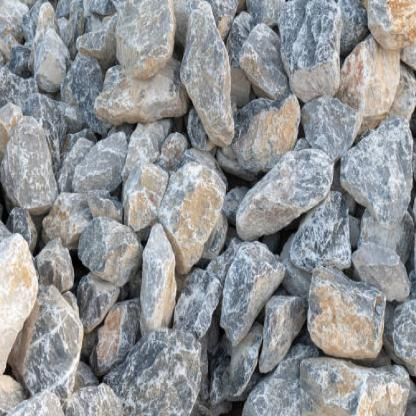Sedimentary_Limestone: (227, 142, 346, 242), (177, 0, 238, 156), (309, 266, 388, 364), (338, 116, 409, 224), (274, 0, 346, 101), (0, 230, 44, 378), (111, 0, 182, 87), (140, 217, 183, 342), (0, 127, 61, 214), (66, 126, 120, 193)
